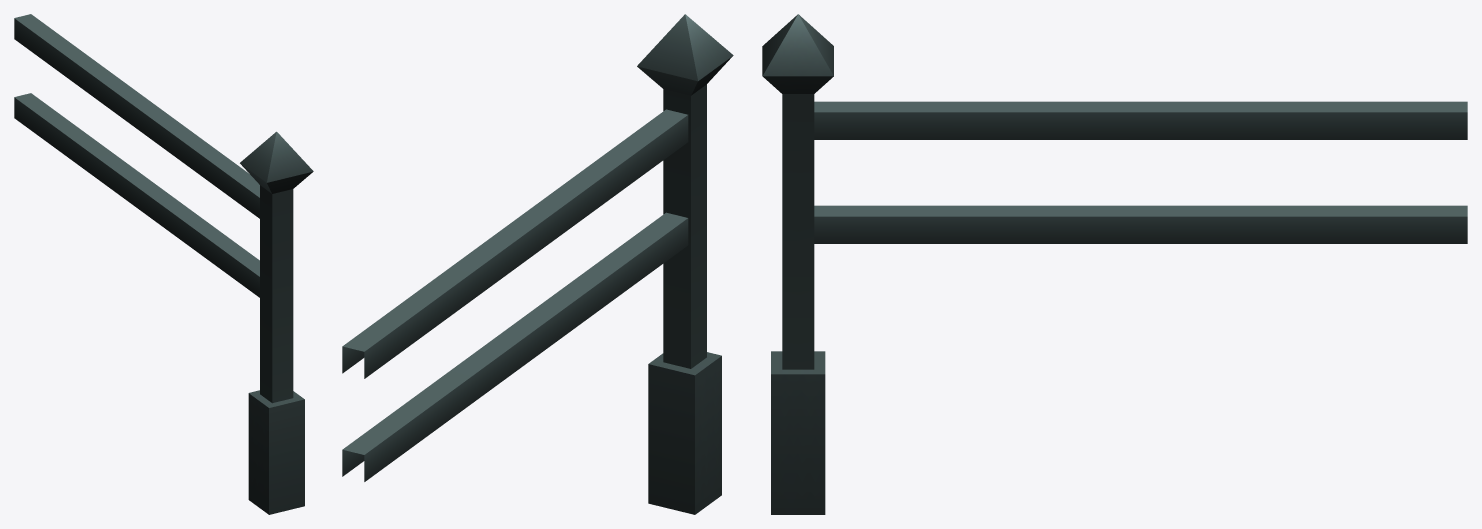
File: Metal_Fence_3A.fbx
3 renders of one model, left to right at view 1: azimuth 30°, elevation 25°; view 2: azimuth 150°, elevation 25°; view 3: azimuth 270°, elevation 25°, orthographic. The views are drawn at different scales.
Parts seen in each view (by area): view 1: Metal_Fence_3A; view 2: Metal_Fence_3A; view 3: Metal_Fence_3A.
Boxes of the visible parts, x1,y1,x2,y2 form: Metal_Fence_3A: (14, 14, 313, 514); Metal_Fence_3A: (342, 14, 733, 514); Metal_Fence_3A: (762, 14, 1467, 514).
Size of the model in its own units: 0.218 by 1.65 by 2.15.
